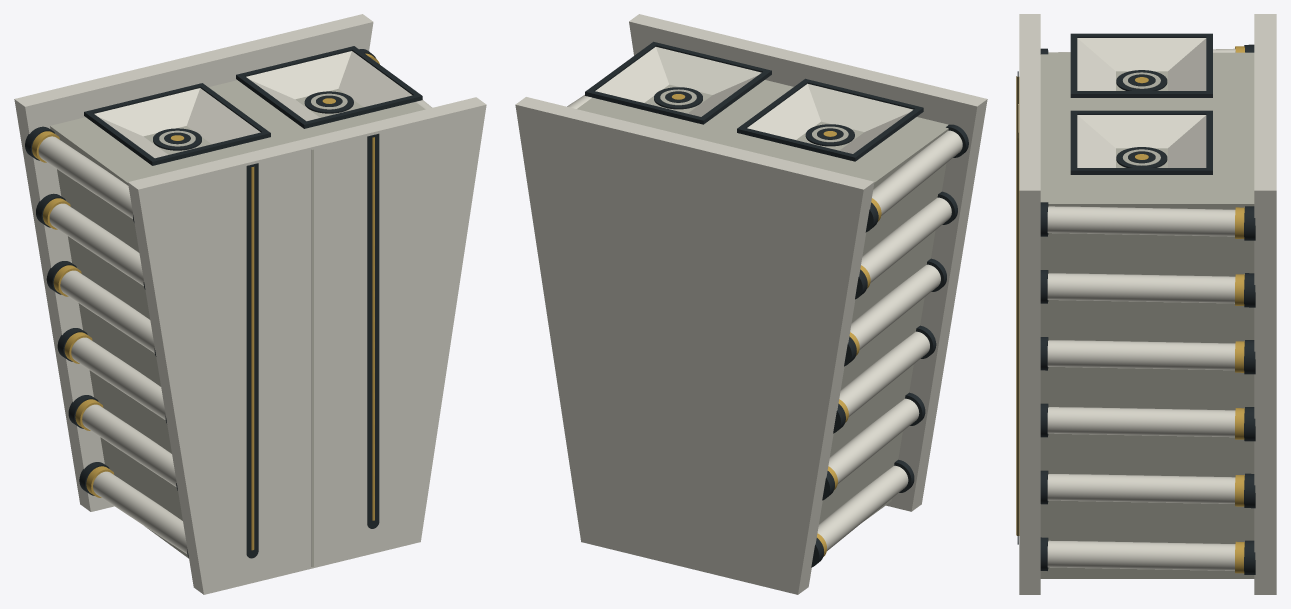
Rendered from impulse.glb.
The picture shows the model from 3 angles, left to right: view 1: azimuth 30°, elevation 25°; view 2: azimuth 150°, elevation 25°; view 3: azimuth 270°, elevation 25°; orthographic projection. The views are drawn at different scales.
Parts seen in each view (by area): view 1: Material surface details (×6); view 2: Material surface details (×6); view 3: Material surface details (×6).
Boxes of the visible parts, box(x1,y1,x2,y2) form: Material surface details (×6): box(14, 14, 486, 594); Material surface details (×6): box(515, 14, 987, 594); Material surface details (×6): box(1016, 14, 1276, 594).
Bounding box in the file's own units: 4.5 × 5.2 × 2.8.
